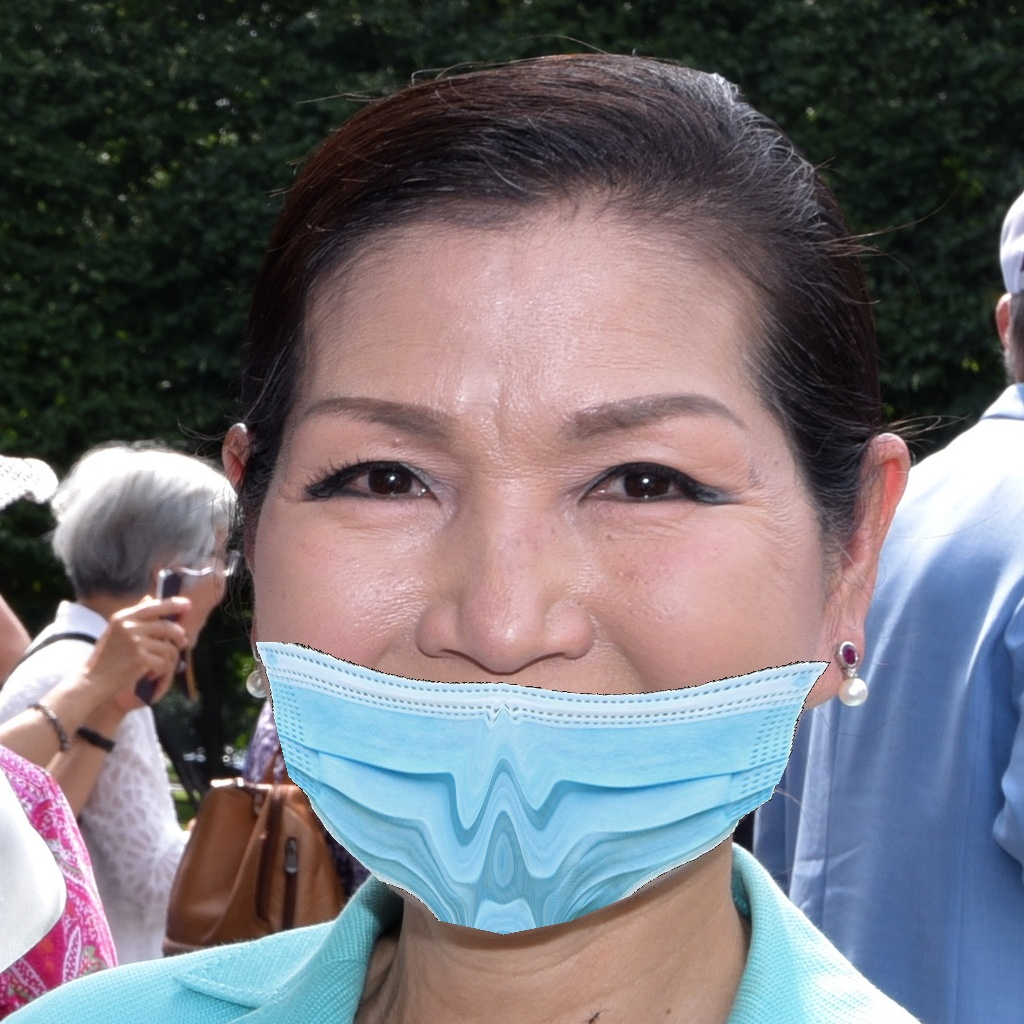mascarilla_mal_puesta: (229, 393, 882, 943)
